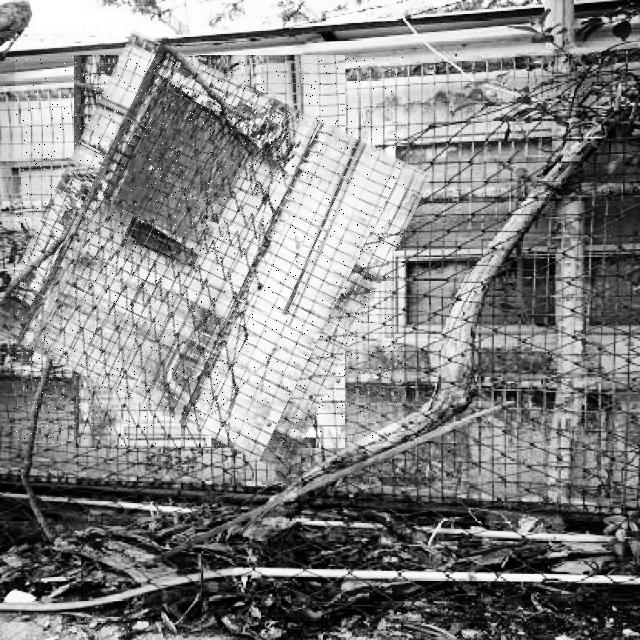fences: (15, 57, 404, 446)
